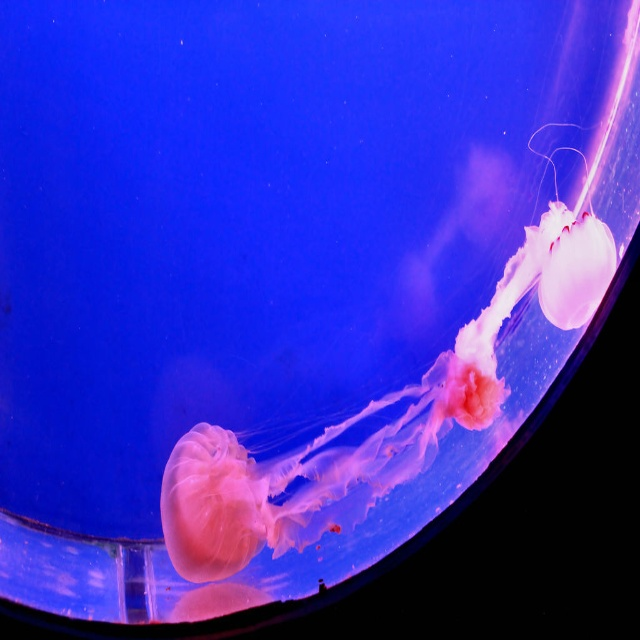Jellyfish: (180, 318, 574, 608), (449, 118, 616, 348)
